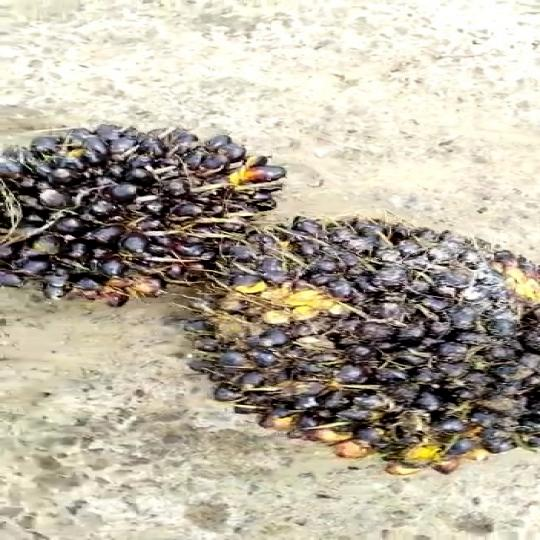mentah: (150, 200, 531, 476), (0, 87, 278, 321)
